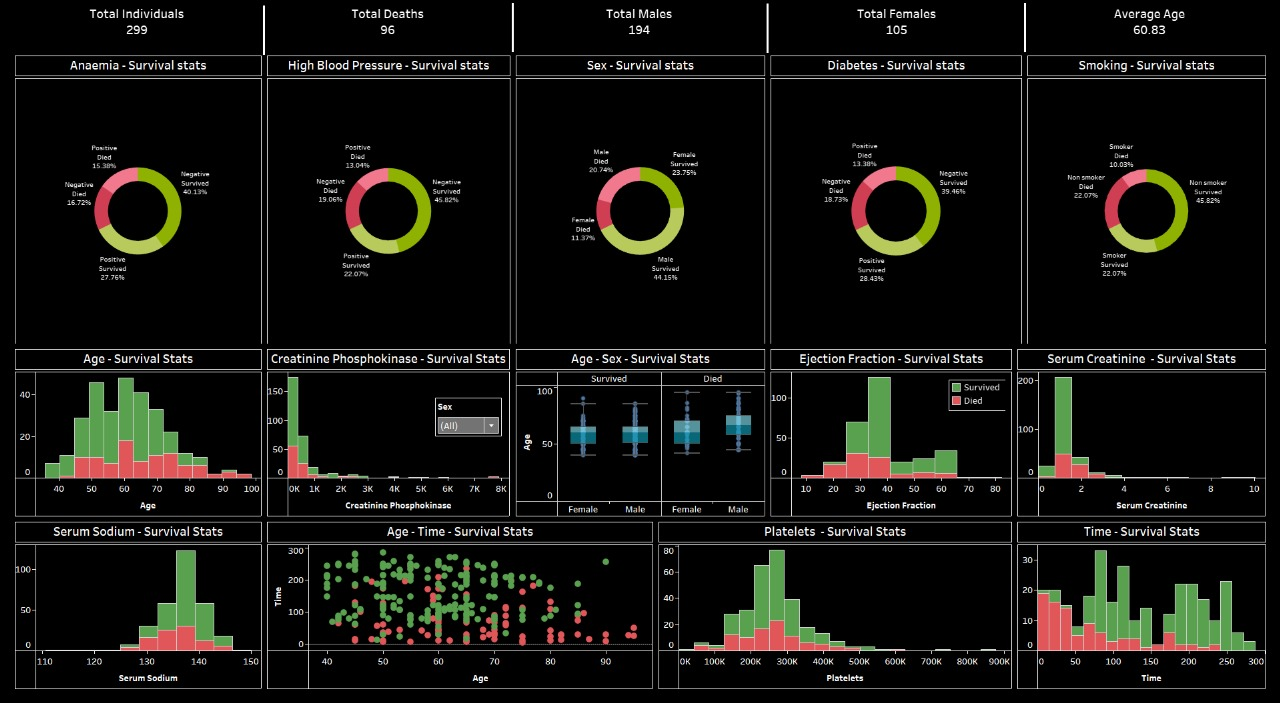

This screenshot's page, from the dashboard's own definition file:
{"tool":"tableau","page":{"name":"Dashboard 1","canvas":[1000,1000],"units":"permille","ordinal":0},"visuals":[{"type":"worksheet","title":"Sheet 15","mark":"Automatic","box":[4.8,8,198.8,71.9]},{"type":"worksheet","title":"Sheet 15 (2)","mark":"Automatic","box":[203.6,8,195.8,71.9]},{"type":"worksheet","title":"Sheet 15 (3)","mark":"Automatic","box":[399.4,8,201,71.9]},{"type":"worksheet","title":"Sheet 15 (4)","mark":"Automatic","box":[600.4,8,207.9,71.9]},{"type":"worksheet","title":"Sheet 15 (5)","mark":"Automatic","box":[808.4,8,186.8,71.9]},{"type":"blank","box":[398.3,9,1.6,70.9]},{"type":"blank","box":[802.4,9,1.6,70.9]},{"type":"blank","box":[599.6,10,1.6,70.9]},{"type":"blank","box":[202.3,12,1.6,70.9]},{"type":"worksheet","title":"Sheet 1","mark":"Pie","rows":["Calculation_1534320160390934529","Calculation_1534320160390934529"],"box":[4.8,79.9,198.8,419.5]},{"type":"worksheet","title":"Sheet 1 (3)","mark":"Pie","rows":["Calculation_1534320160390934529","Calculation_1534320160390934529"],"box":[203.6,79.9,195.8,419.5]},{"type":"worksheet","title":"Sheet 1 (4)","mark":"Pie","rows":["Calculation_1534320160390934529","Calculation_1534320160390934529"],"box":[399.4,79.9,200.9,419.5]},{"type":"worksheet","title":"Sheet 1 (2)","mark":"Pie","rows":["Calculation_1534320160390934529","Calculation_1534320160390934529"],"box":[600.4,79.9,202.1,419.5]},{"type":"worksheet","title":"Sheet 1 (5)","mark":"Pie","rows":["Calculation_1534320160390934529","Calculation_1534320160390934529"],"box":[802.5,79.9,192.7,419.5]},{"type":"worksheet","title":"Sheet 6","mark":"Automatic","rows":["age"],"cols":["Age (bin)"],"box":[4.8,499.4,198.8,246.3]},{"type":"worksheet","title":"Sheet 6 (2)","mark":"Automatic","rows":["creatinine_phosphokinase"],"cols":["Creatinine Phosphokinase (bin)"],"box":[203.6,499.4,195.7,246.3]},{"type":"worksheet","title":"Sheet 6 (9)","mark":"Circle","rows":["age"],"cols":["DEATH_EVENT","sex"],"box":[399.3,499.4,201.1,246.3]},{"type":"worksheet","title":"Sheet 6 (3)","mark":"Automatic","rows":["ejection_fraction"],"cols":["Ejection Fraction (bin)"],"box":[600.4,499.4,194.7,246.3]},{"type":"worksheet","title":"Sheet 6 (5)","mark":"Automatic","rows":["serum_creatinine"],"cols":["Serum Creatinine (bin)"],"box":[795.1,499.4,200.1,246.3]},{"type":"legend","title":"Sheet 6","param":"[federated.10kgusi0tpnuc31ey78j10txpapf].[none:DEATH_EVENT:ok]","box":[743.1,546.5,45,45]},{"type":"filter","title":"Sheet 6 (9)","param":"[federated.10kgusi0tpnuc31ey78j10txpapf].[none:sex:ok]","box":[338,572.4,52.5,55]},{"type":"worksheet","title":"Sheet 6 (6)","mark":"Automatic","rows":["serum_sodium"],"cols":["Serum Sodium (bin)"],"box":[4.8,745.7,198.8,246.3]},{"type":"worksheet","title":"Sheet 6 (8)","mark":"Automatic","rows":["time"],"cols":["age"],"box":[203.6,745.7,308.5,246.3]},{"type":"worksheet","title":"Sheet 6 (4)","mark":"Automatic","rows":["platelets"],"cols":["Platelets (bin)"],"box":[512.1,745.7,283,246.3]},{"type":"worksheet","title":"Sheet 6 (7)","mark":"Automatic","rows":["time"],"cols":["Time (bin)"],"box":[795.1,745.7,200.1,246.3]}]}

Visuals, with their boxes on the dashboard's canvas, which has no fixed pixel size, in thousandths of its width and height (x1, y1, x2, y2). These are canvas units, not pixel positions in the 1280x703 screenshot, which may show the page scaled, cropped or inside an application window:
"Sheet 15" worksheet: <bbox>5, 8, 204, 80</bbox>
"Sheet 15 (2)" worksheet: <bbox>204, 8, 399, 80</bbox>
"Sheet 15 (3)" worksheet: <bbox>399, 8, 600, 80</bbox>
"Sheet 15 (4)" worksheet: <bbox>600, 8, 808, 80</bbox>
"Sheet 15 (5)" worksheet: <bbox>808, 8, 995, 80</bbox>
blank: <bbox>398, 9, 400, 80</bbox>
blank: <bbox>802, 9, 804, 80</bbox>
blank: <bbox>600, 10, 601, 81</bbox>
blank: <bbox>202, 12, 204, 83</bbox>
"Sheet 1" worksheet (Pie marks): <bbox>5, 80, 204, 499</bbox>
"Sheet 1 (3)" worksheet (Pie marks): <bbox>204, 80, 399, 499</bbox>
"Sheet 1 (4)" worksheet (Pie marks): <bbox>399, 80, 600, 499</bbox>
"Sheet 1 (2)" worksheet (Pie marks): <bbox>600, 80, 802, 499</bbox>
"Sheet 1 (5)" worksheet (Pie marks): <bbox>802, 80, 995, 499</bbox>
"Sheet 6" worksheet: <bbox>5, 499, 204, 746</bbox>
"Sheet 6 (2)" worksheet: <bbox>204, 499, 399, 746</bbox>
"Sheet 6 (9)" worksheet (Circle marks): <bbox>399, 499, 600, 746</bbox>
"Sheet 6 (3)" worksheet: <bbox>600, 499, 795, 746</bbox>
"Sheet 6 (5)" worksheet: <bbox>795, 499, 995, 746</bbox>
"Sheet 6" legend: <bbox>743, 546, 788, 592</bbox>
"Sheet 6 (9)" filter: <bbox>338, 572, 390, 627</bbox>
"Sheet 6 (6)" worksheet: <bbox>5, 746, 204, 992</bbox>
"Sheet 6 (8)" worksheet: <bbox>204, 746, 512, 992</bbox>
"Sheet 6 (4)" worksheet: <bbox>512, 746, 795, 992</bbox>
"Sheet 6 (7)" worksheet: <bbox>795, 746, 995, 992</bbox>
